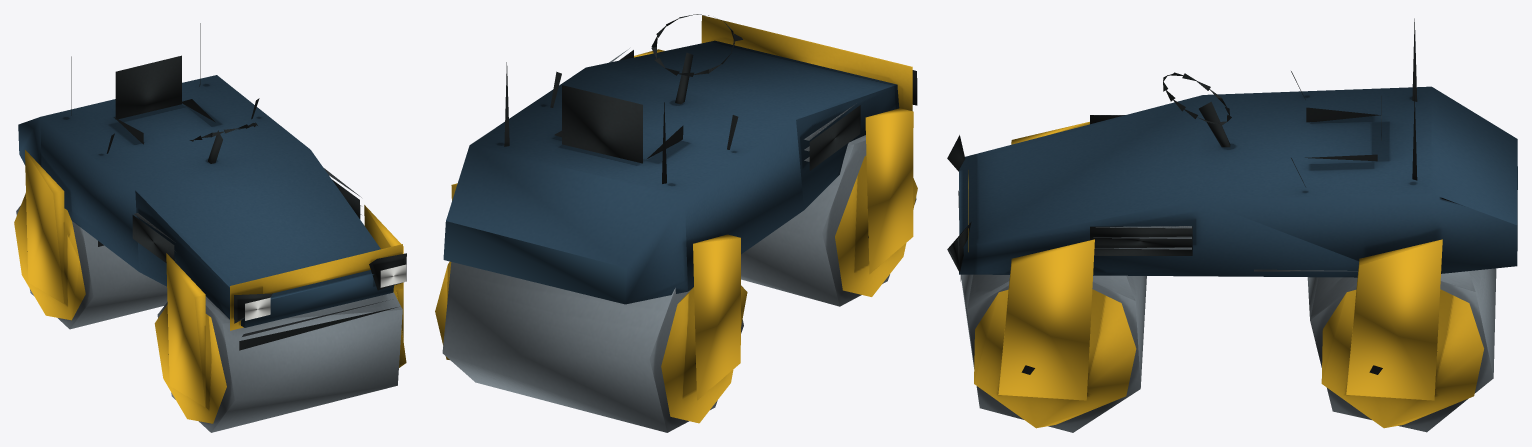
The model's file is road_roller.lod2.obj.
3 renders of one model, left to right at view 1: azimuth 30°, elevation 25°; view 2: azimuth 150°, elevation 25°; view 3: azimuth 270°, elevation 25°, orthographic. The views are drawn at different scales.
Visible parts, largest first — view 1: road_roller; view 2: road_roller; view 3: road_roller.
Part boxes in pixels (x1,y1,x2,y2): road_roller: [14, 23, 406, 432]; road_roller: [435, 14, 917, 432]; road_roller: [947, 18, 1517, 432].
Bounding box in the file's own units: 1.88 × 2.3 × 3.62.
1 material, 1 textured.
